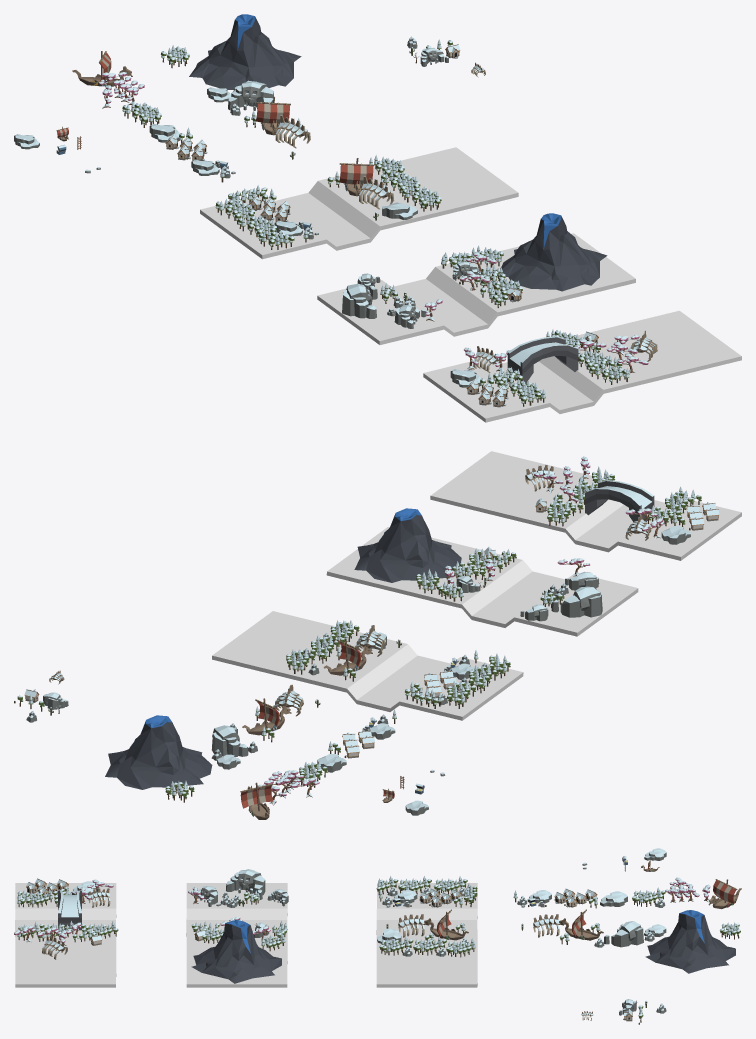
Rendered from chi menn_003.fbx.
3 renders of one model, top to bottom at view 1: azimuth 30°, elevation 25°; view 2: azimuth 150°, elevation 25°; view 3: azimuth 270°, elevation 25°, orthographic. The views are drawn at different scales.
Parts seen in each view (by area): view 1: 平面.002, 平面.003, 平面.001, SM_Tile_Hex_Mountain_05_924.001, SM_Tile_Hex_Mountain_05_924, SM_Prop_Generic_Bridge_01_Snow_1366, SM_Env_Pirate_SkullRock_01_Snow_1330.005, SM_Env_Pirate_SkullRock_01_Snow_1330.002, SM_Prop_Viking_Boat_01_652.003, SM_Prop_Viking_Boat_01_652.001; view 2: 平面.002, 平面.003, 平面.001, SM_Tile_Hex_Mountain_05_924, SM_Tile_Hex_Mountain_05_924.001, SM_Prop_Generic_Bridge_01_Snow_1366, SM_Env_Pirate_SkullRock_01_Snow_1330.005, SM_Env_Pirate_SkullRock_01_Snow_1330.002, SM_Prop_Viking_Boat_01_652.002, SM_Prop_Viking_Boat_01_652.003, SM_Prop_Viking_Boat_01_652.001; view 3: 平面.003, 平面.002, 平面.001, SM_Tile_Hex_Mountain_05_924, SM_Tile_Hex_Mountain_05_924.001, SM_Env_Pirate_SkullRock_01_Snow_1330.005, SM_Prop_Generic_Bridge_01_Snow_1366, SM_Env_Pirate_SkullRock_01_Snow_1330.002, SM_Prop_Viking_Boat_01_652.002, SM_Prop_Viking_Boat_01_652.001, SM_Prop_Viking_Boat_01_652.003, SM_Env_Dungeon_Bones_01_Snow_1240.004 (+3 smaller).
Boxes of the visible parts, x1,y1,x2,y2 form: 平面.002: (200,147,518,259); 平面.003: (423,310,741,422); 平面.001: (317,233,635,344); SM_Tile_Hex_Mountain_05_924.001: (500,213,607,291); SM_Tile_Hex_Mountain_05_924: (189,14,301,89); SM_Prop_Generic_Bridge_01_Snow_1366: (507,336,578,383); SM_Env_Pirate_SkullRock_01_Snow_1330.005: (342,283,377,318); SM_Env_Pirate_SkullRock_01_Snow_1330.002: (228,80,274,110); SM_Prop_Viking_Boat_01_652.003: (339,158,374,196); SM_Prop_Viking_Boat_01_652.001: (255,97,290,135); 平面.002: (212,611,523,720); 平面.003: (430,451,741,560); 平面.001: (326,527,638,636); SM_Tile_Hex_Mountain_05_924: (105,715,212,789); SM_Tile_Hex_Mountain_05_924.001: (354,508,461,582); SM_Prop_Generic_Bridge_01_Snow_1366: (585,480,654,522); SM_Env_Pirate_SkullRock_01_Snow_1330.005: (551,586,602,617); SM_Env_Pirate_SkullRock_01_Snow_1330.002: (211,725,248,756); SM_Prop_Viking_Boat_01_652.002: (240,782,273,819); SM_Prop_Viking_Boat_01_652.003: (323,638,372,675); SM_Prop_Viking_Boat_01_652.001: (242,698,291,735); 平面.003: (15,883,116,987); 平面.002: (376,883,477,987); 平面.001: (186,883,287,987); SM_Tile_Hex_Mountain_05_924: (645,910,735,973); SM_Tile_Hex_Mountain_05_924.001: (191,920,281,983); SM_Env_Pirate_SkullRock_01_Snow_1330.005: (226,869,265,899); SM_Prop_Generic_Bridge_01_Snow_1366: (58,890,81,930); SM_Env_Pirate_SkullRock_01_Snow_1330.002: (604,921,643,947); SM_Prop_Viking_Boat_01_652.002: (708,879,741,909); SM_Prop_Viking_Boat_01_652.001: (558,909,603,940); SM_Prop_Viking_Boat_01_652.003: (423,909,468,940); SM_Env_Dungeon_Bones_01_Snow_1240.004: (398,914,424,937).
Bounding box in the file's own units: 3979 × 568 × 7196.
